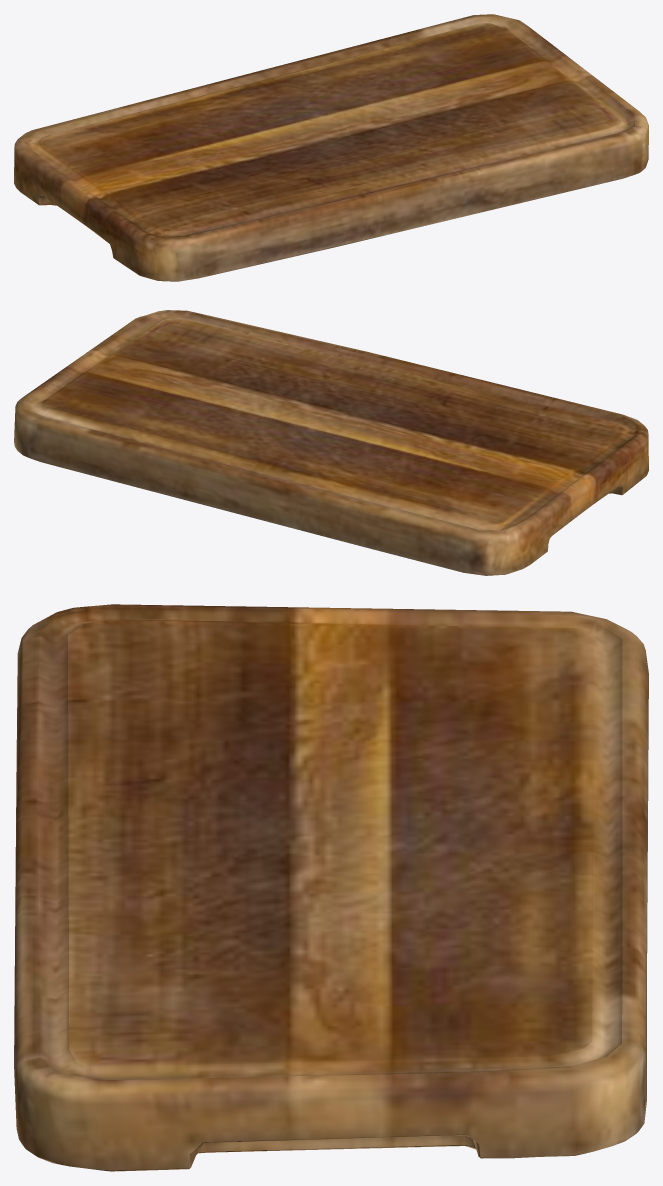
The model's file is wooden_cutting_board.glb.
3 views of the same model, one above another, from view 1: azimuth 30°, elevation 25°; view 2: azimuth 150°, elevation 25°; view 3: azimuth 270°, elevation 25° (orthographic). The views are drawn at different scales.
Visible parts, largest first — view 1: wooden_cutting_board; view 2: wooden_cutting_board; view 3: wooden_cutting_board.
Part boxes in pixels (x1,y1,x2,y2): wooden_cutting_board: (14, 14, 648, 281); wooden_cutting_board: (14, 310, 648, 575); wooden_cutting_board: (14, 604, 648, 1171).
Bounding box in the file's own units: 0.4498 × 0.0413 × 0.2465.
1 material, 1 textured.
